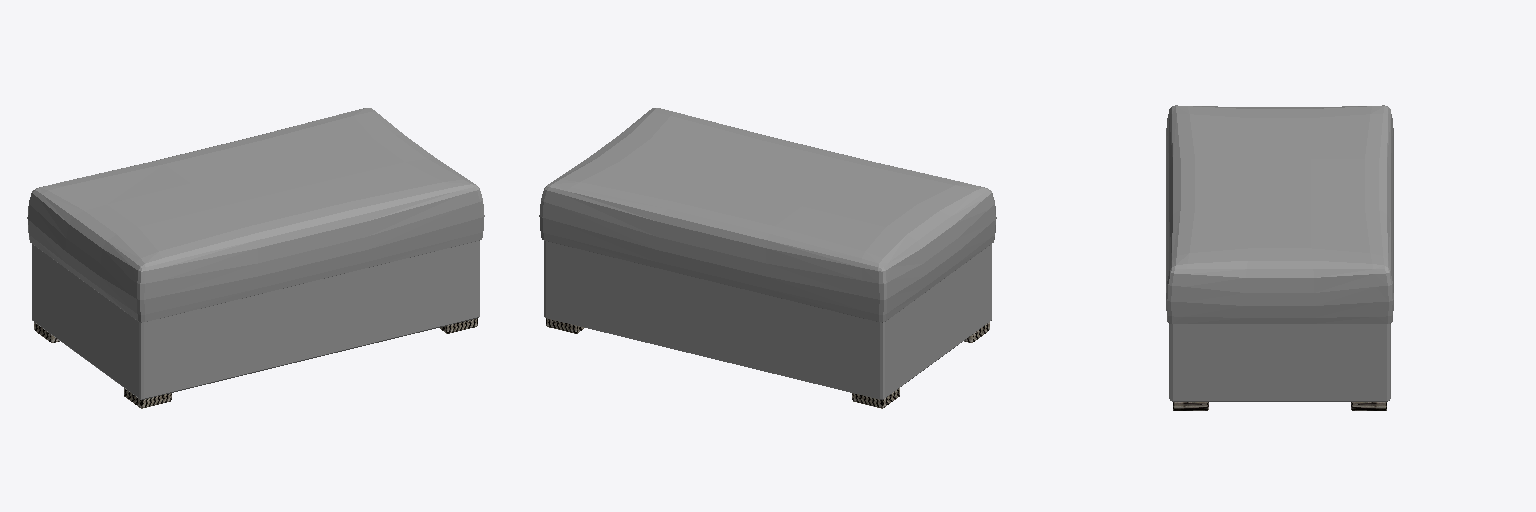
The picture shows the model from 3 angles: view 1: azimuth 30°, elevation 25°; view 2: azimuth 150°, elevation 25°; view 3: azimuth 270°, elevation 25°; orthographic projection.
Bounding box in the file's own units: 1.09 × 0.44 × 0.62.
Materials: 2 (1 with a texture image).